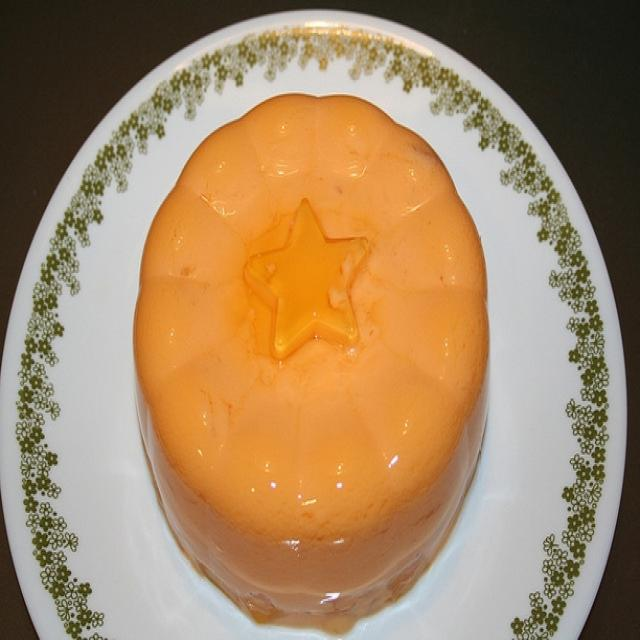蛋糕甜品: (9, 9, 636, 615)
